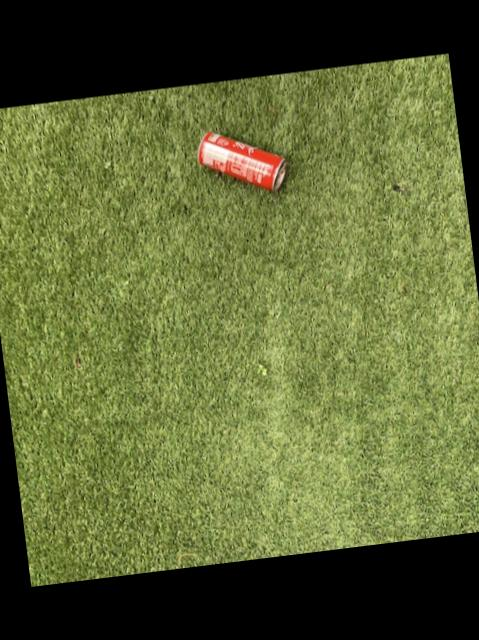metal: (199, 131, 286, 188)
